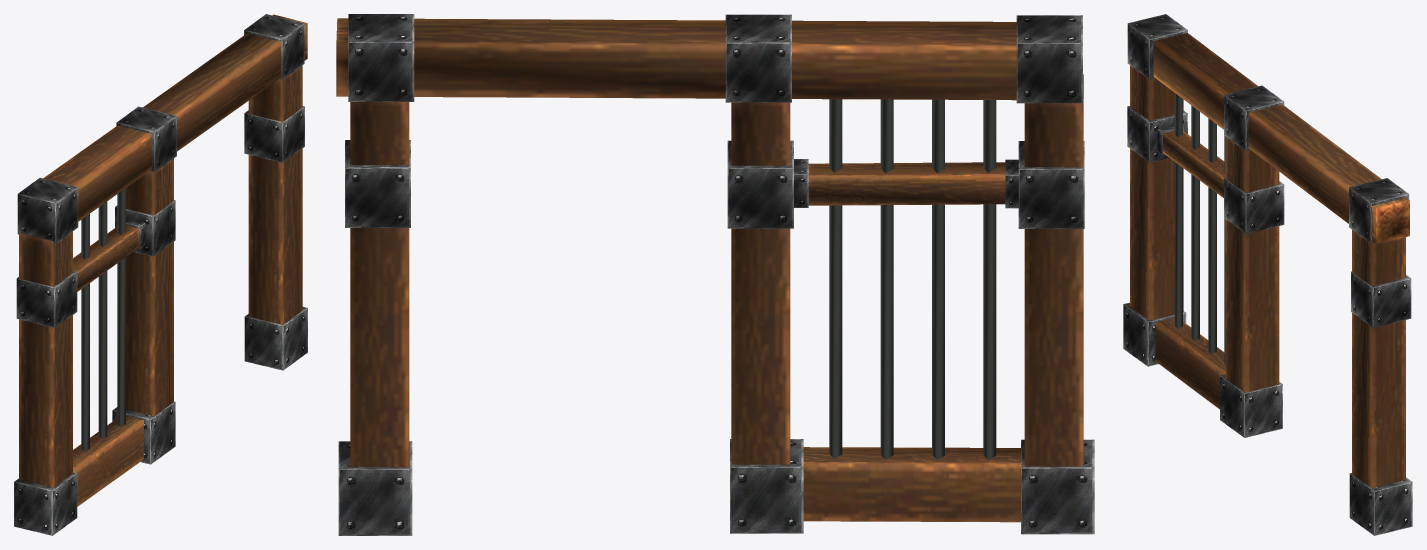
File: SWORDLIGHT20_JAILCELLBARS01.fbx
3 views of the same model, side by side, from view 1: azimuth 30°, elevation 25°; view 2: azimuth 150°, elevation 25°; view 3: azimuth 270°, elevation 25° (orthographic). The views are drawn at different scales.
Parts seen in each view (by area): view 1: SWORDLIGHT20_JAILCELLBARS01; view 2: SWORDLIGHT20_JAILCELLBARS01; view 3: SWORDLIGHT20_JAILCELLBARS01.
Part boxes in pixels (x1,y1,x2,y2): SWORDLIGHT20_JAILCELLBARS01: (14,14,307,535); SWORDLIGHT20_JAILCELLBARS01: (336,14,1094,535); SWORDLIGHT20_JAILCELLBARS01: (1123,14,1412,535).
Bounding box in the file's own units: 46856 × 37037 × 29421.
3 materials, 3 textured.
